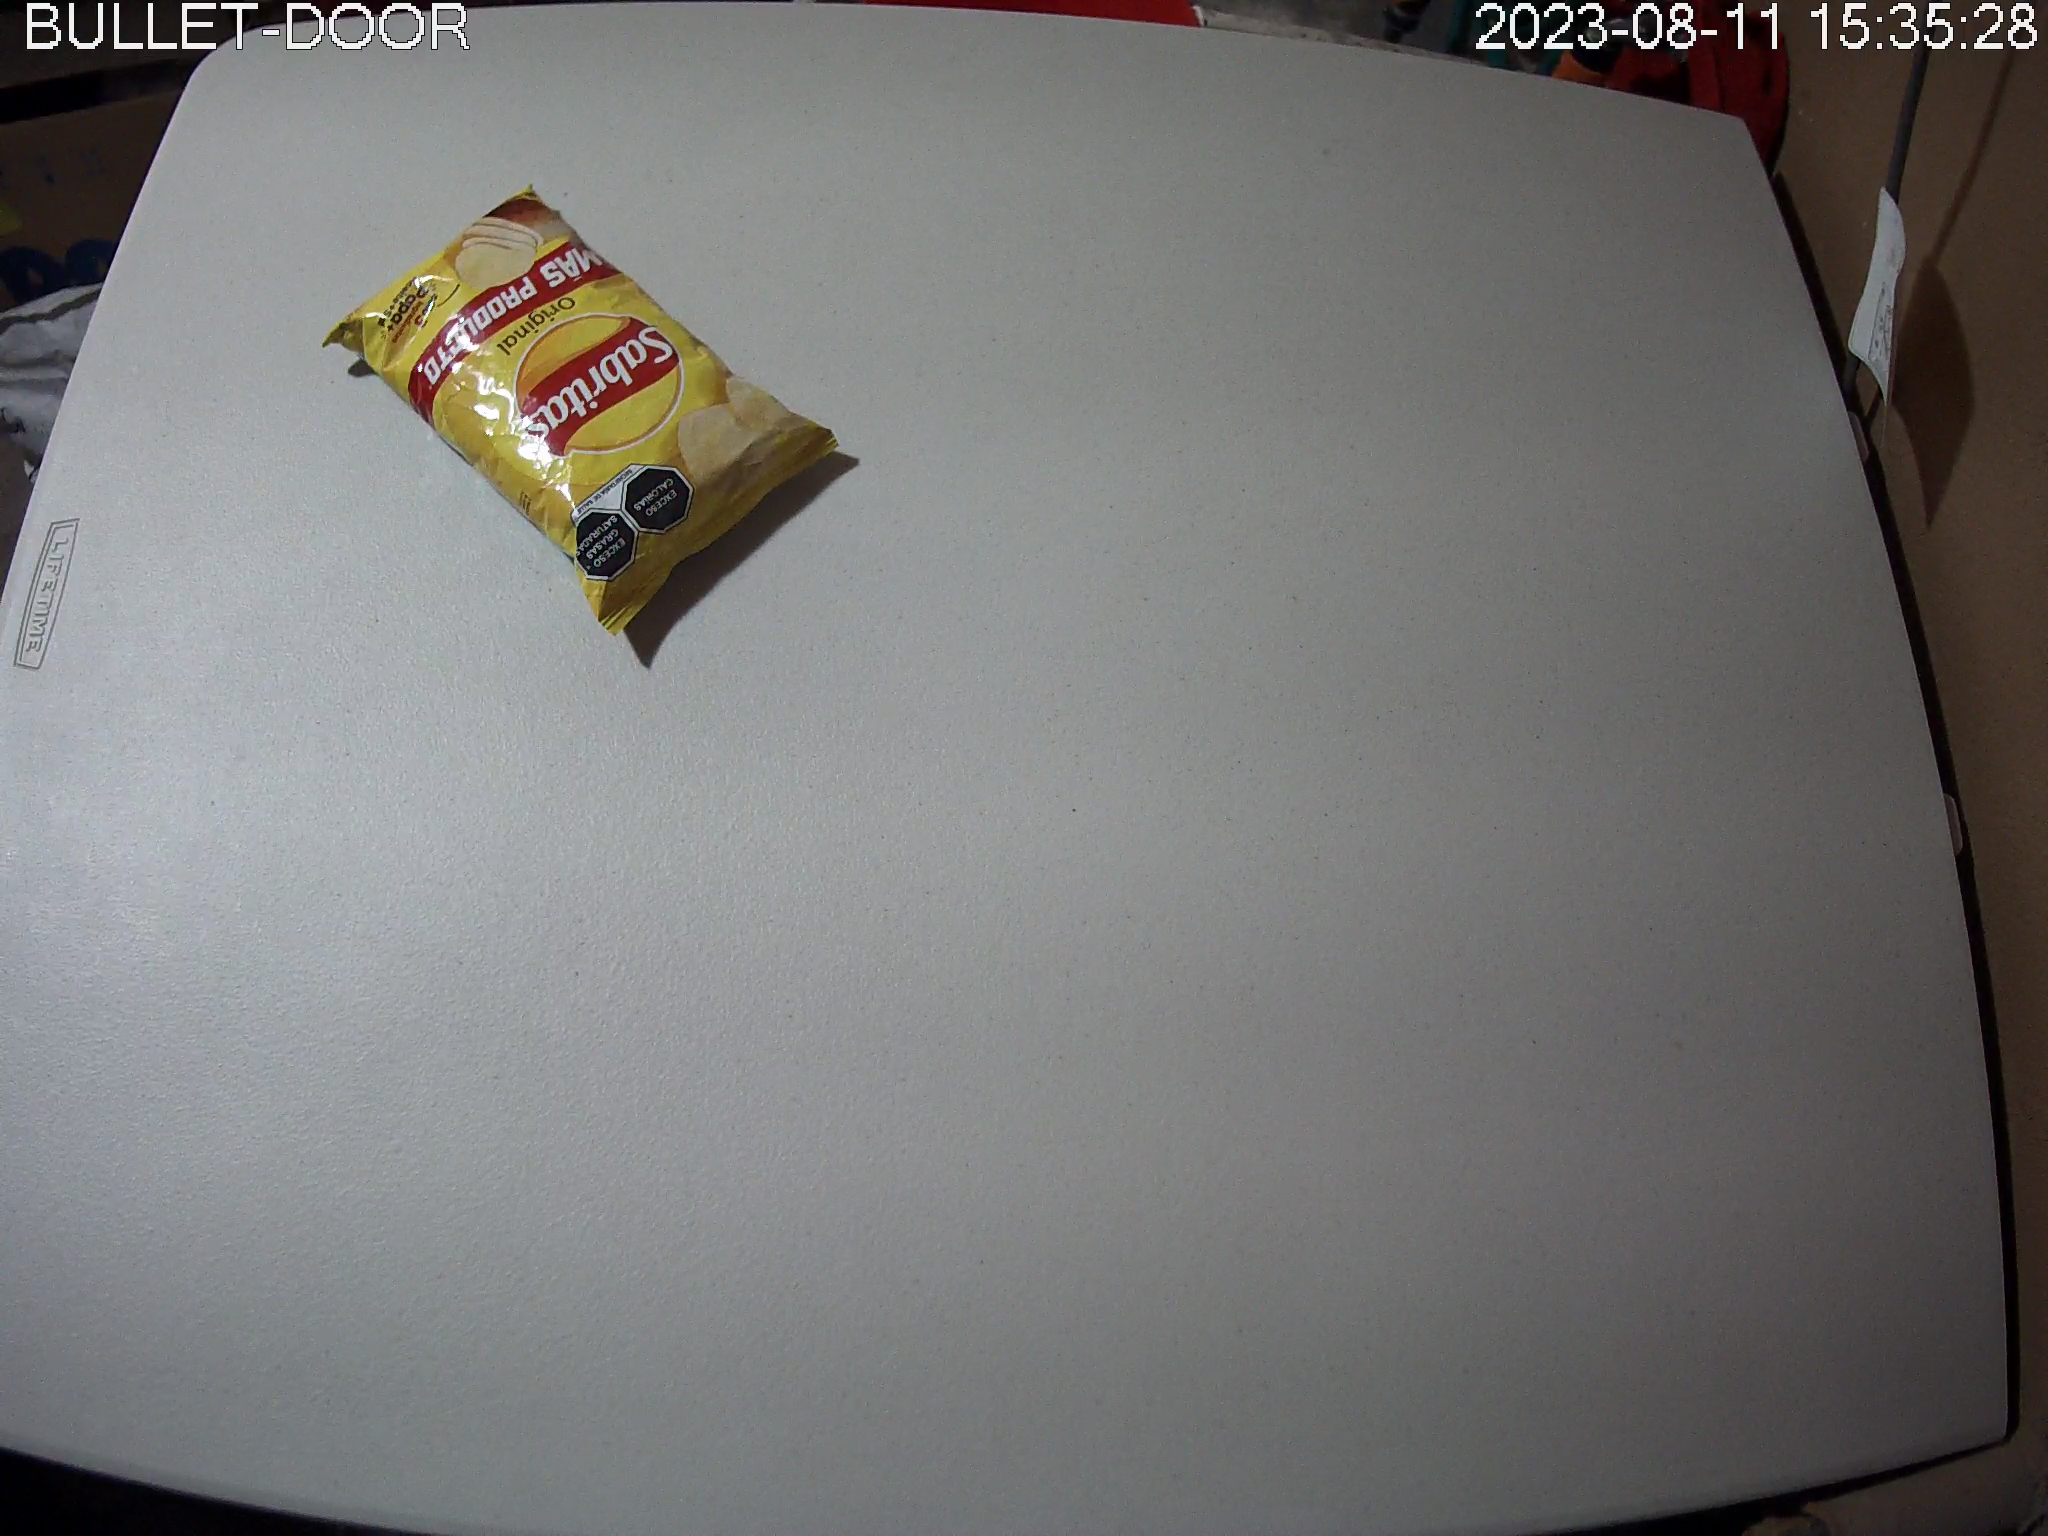Sabritas_45_F: (319, 182, 843, 641)
